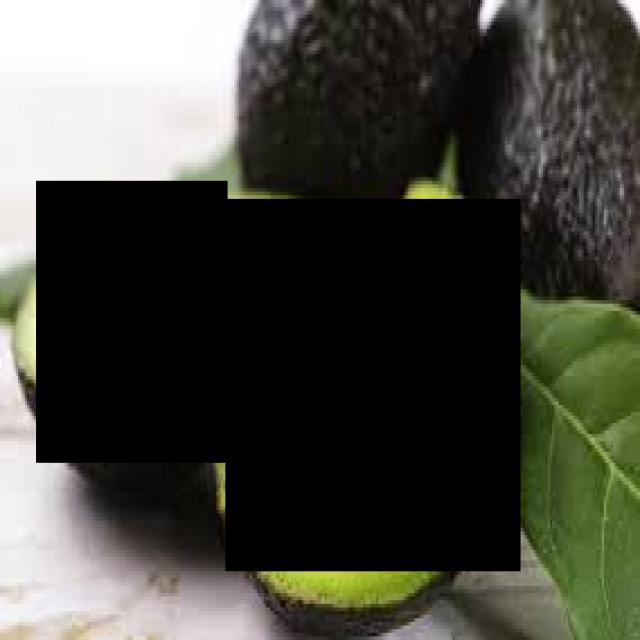Avocado: (226, 202, 521, 574), (37, 183, 228, 465)
